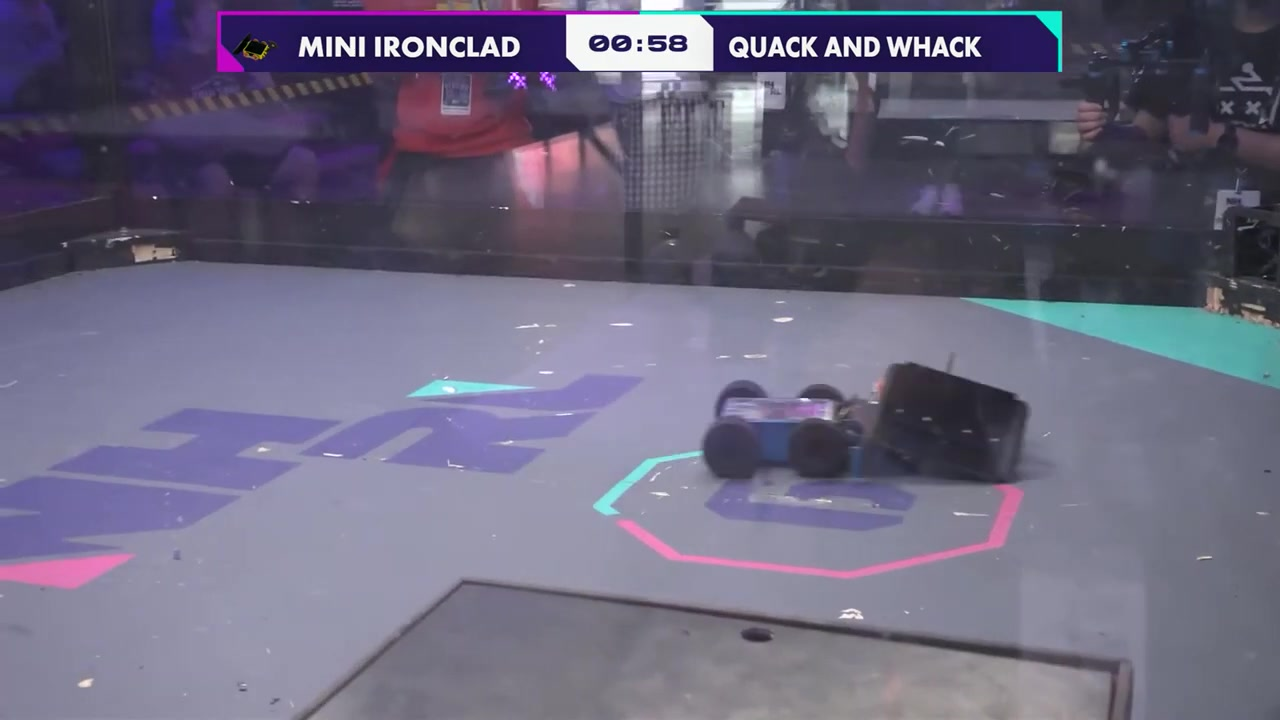combatbot: (866, 352, 1031, 483), (701, 379, 870, 484)
housebot: (288, 578, 1136, 717)
